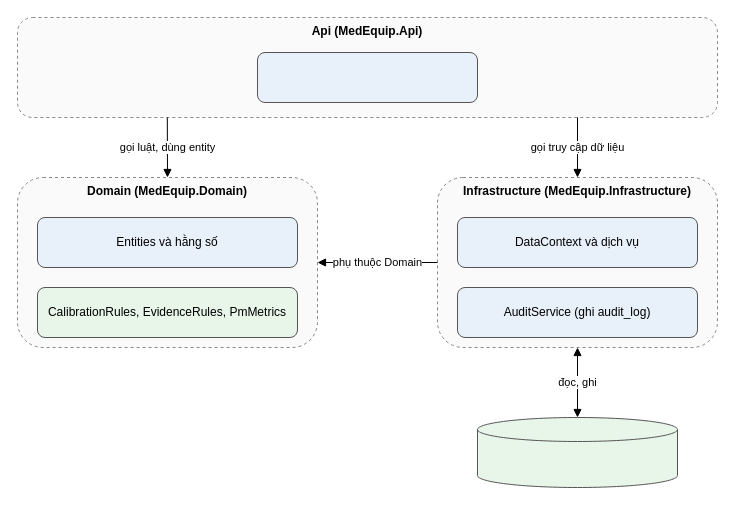
This 735x505 diagram has some shape labels left out. Each missing label, with the centre of its shape:
Controller, xác thực JWT, Program.cs: the point at 367,77
PostgreSQL trigger BR-01, CHECK BR-03: the point at 577,452
